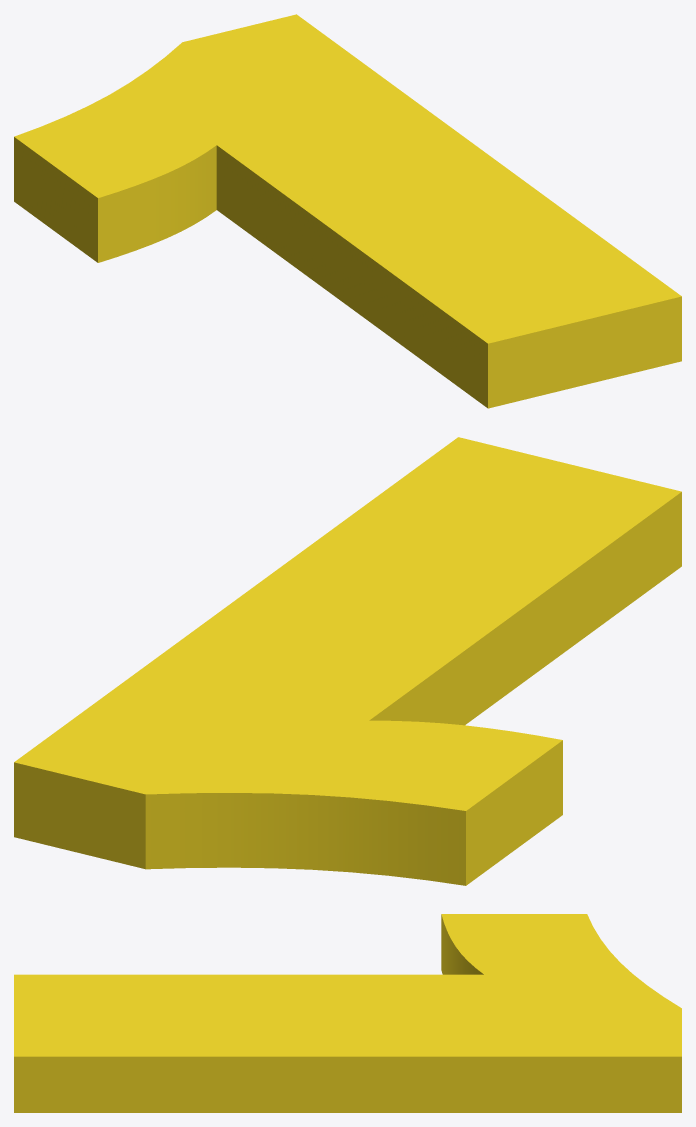
Rendered from NumberModel_1.gltf.
3 renders of one model, top to bottom at view 1: azimuth 30°, elevation 25°; view 2: azimuth 150°, elevation 25°; view 3: azimuth 270°, elevation 25°, orthographic. The views are drawn at different scales.
Parts seen in each view (by area): view 1: NumberModel_1; view 2: NumberModel_1; view 3: NumberModel_1.
Part boxes in pixels (box(x1,y1,x2,y2)): NumberModel_1: box(14, 14, 681, 408); NumberModel_1: box(14, 437, 681, 885); NumberModel_1: box(14, 914, 681, 1112).
Bounding box in the file's own units: 0.4157 × 0.0764 × 0.8225.
